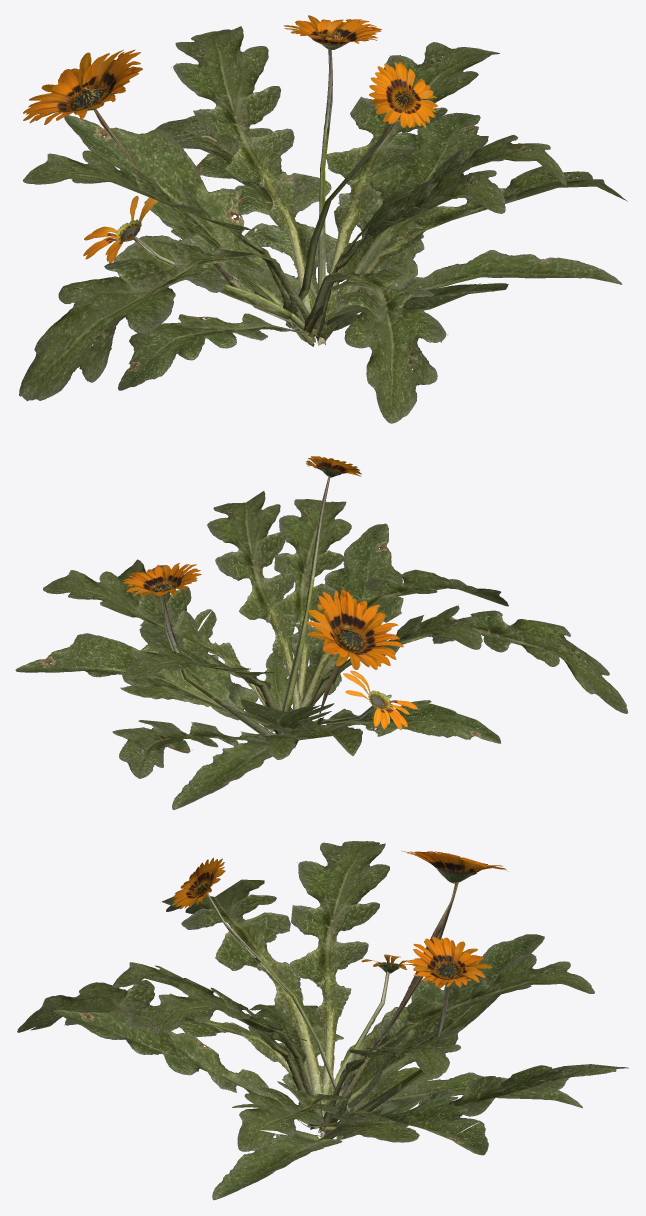
File: ph_flower_gazania_hi.glb
3 views of the same model, one above another, from view 1: azimuth 30°, elevation 25°; view 2: azimuth 150°, elevation 25°; view 3: azimuth 270°, elevation 25° (orthographic). The views are drawn at different scales.
Parts seen in each view (by area): view 1: flower_gazania_h_LOD0; view 2: flower_gazania_h_LOD0; view 3: flower_gazania_h_LOD0.
Boxes of the visible parts, left/top/right/bottom form: flower_gazania_h_LOD0: left=19, top=15, right=627, bottom=423; flower_gazania_h_LOD0: left=15, top=456, right=628, bottom=809; flower_gazania_h_LOD0: left=17, top=841, right=628, bottom=1200.
Size of the model in its own units: 0.3383 by 0.1656 by 0.327.
1 material, 1 textured.
